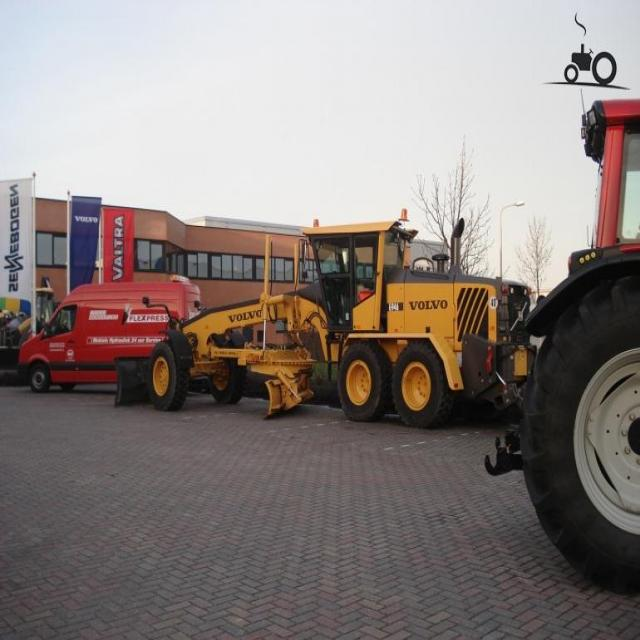Grader: (105, 212, 550, 438)
